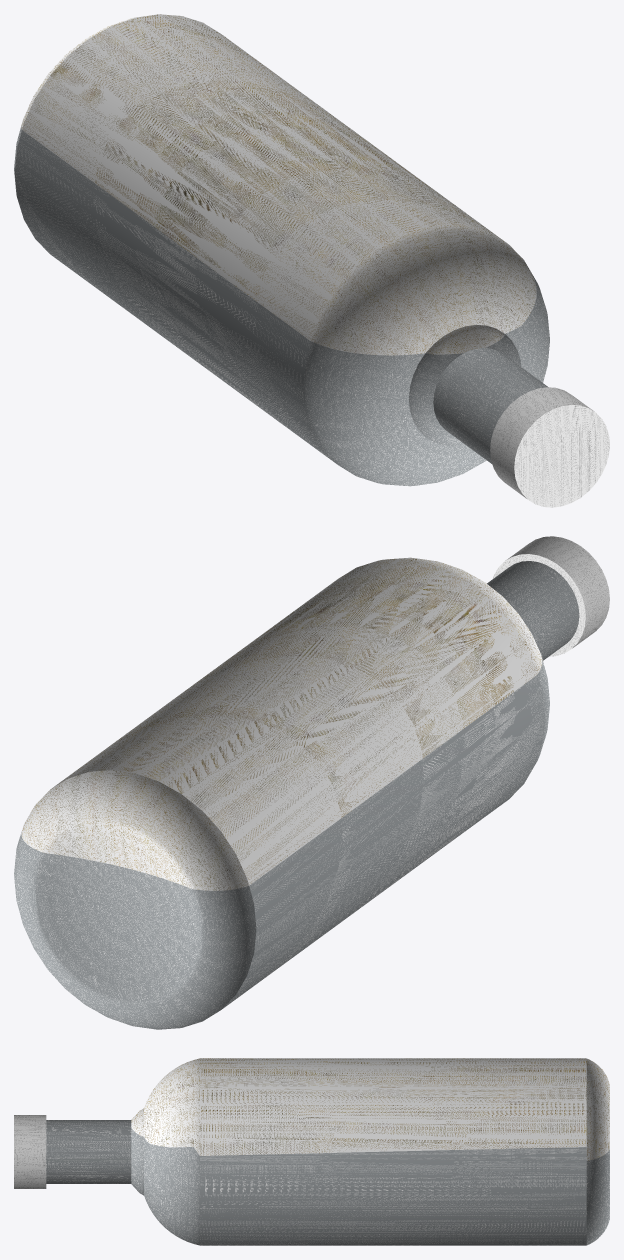
The model's file is model_align.obj.
The picture shows the model from 3 angles, top to bottom: view 1: azimuth 30°, elevation 25°; view 2: azimuth 150°, elevation 25°; view 3: azimuth 270°, elevation 25°; orthographic projection. The views are drawn at different scales.
Parts seen in each view (by area): view 1: mesh1_mesh1-geometry; view 2: mesh1_mesh1-geometry; view 3: mesh1_mesh1-geometry.
Boxes of the visible parts, x1,y1,x2,y2 form: mesh1_mesh1-geometry: (14,14,609,507); mesh1_mesh1-geometry: (14,536,609,1029); mesh1_mesh1-geometry: (14,1058,609,1245).
Size of the model in its own units: 0.0781 by 0.0781 by 0.2484.
